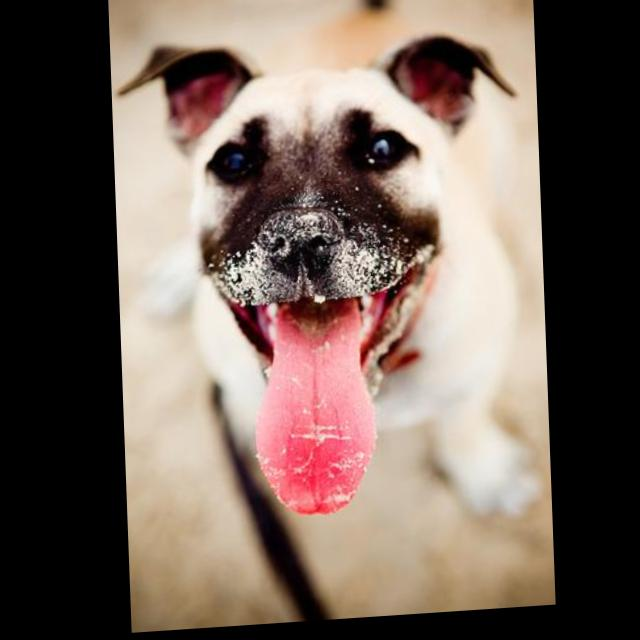staffford: (113, 27, 543, 546)
